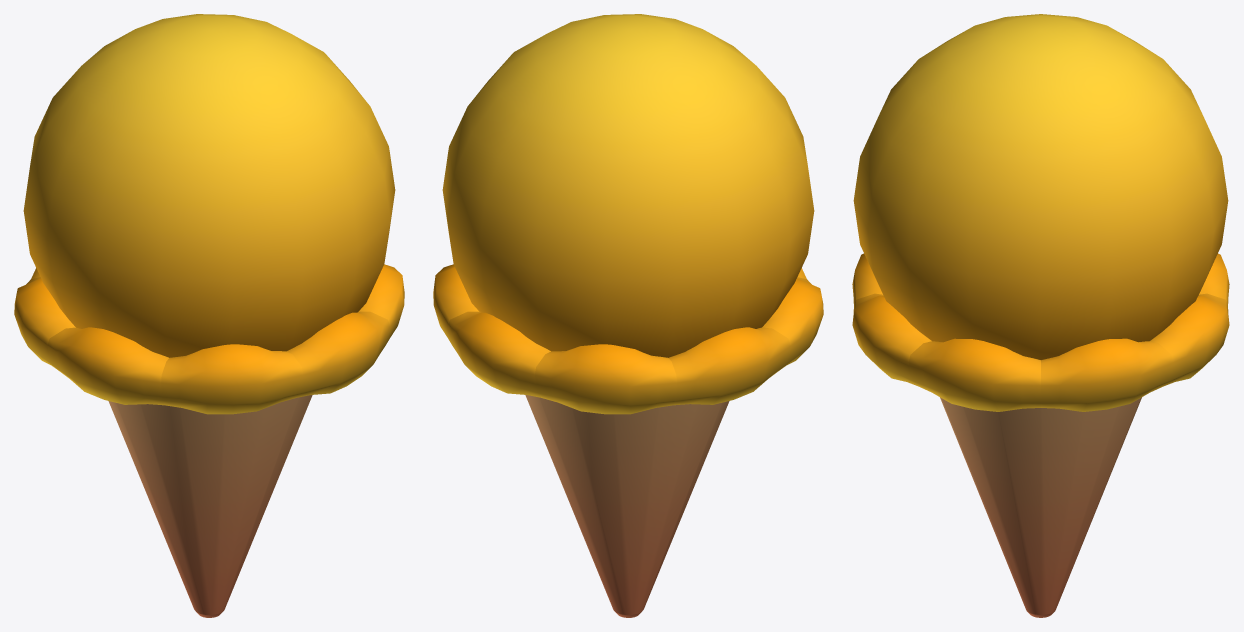
Rendered from Icecream_V1_03.fbx.
3 renders of one model, left to right at view 1: azimuth 30°, elevation 25°; view 2: azimuth 150°, elevation 25°; view 3: azimuth 270°, elevation 25°, orthographic.
Parts seen in each view (by area): view 1: Icecream_V1_03; view 2: Icecream_V1_03; view 3: Icecream_V1_03.
Boxes of the visible parts, x1,y1,x2,y2 form: Icecream_V1_03: (14,14,404,617); Icecream_V1_03: (433,14,823,617); Icecream_V1_03: (852,14,1229,617).
Size of the model in its own units: 31.28 by 53.47 by 31.28.
